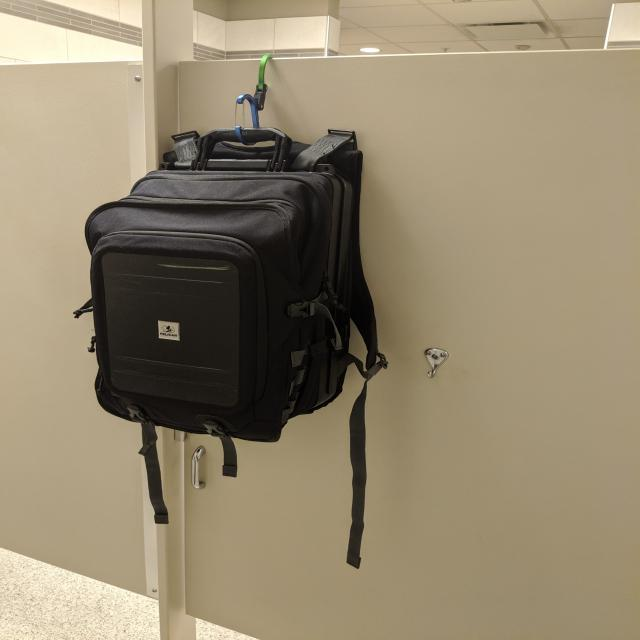Backpacks: (83, 121, 370, 451)
